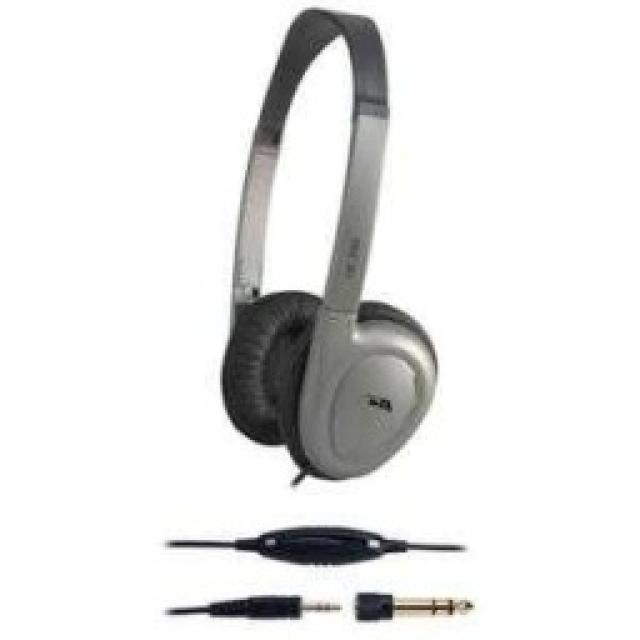headphones: (218, 5, 440, 483)
